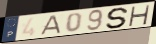0: (65, 12, 84, 34)
4: (20, 17, 38, 38)
9: (86, 9, 105, 32)
A: (38, 14, 63, 36)
H: (127, 5, 152, 27)
S: (105, 7, 131, 30)
